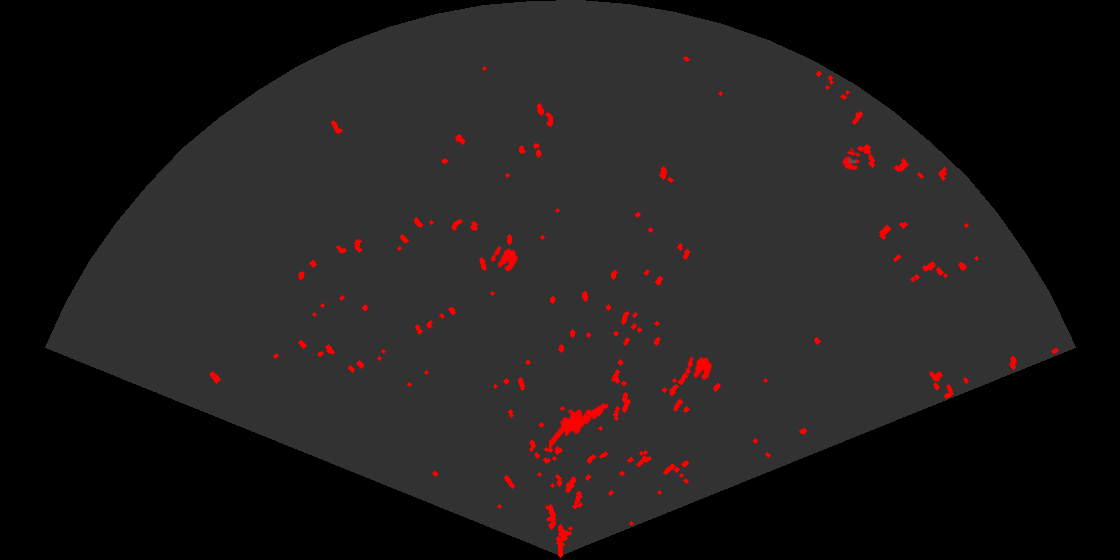ball: (489, 245, 520, 273), (684, 355, 714, 382), (841, 149, 862, 172)
frogman: (549, 401, 610, 448)
